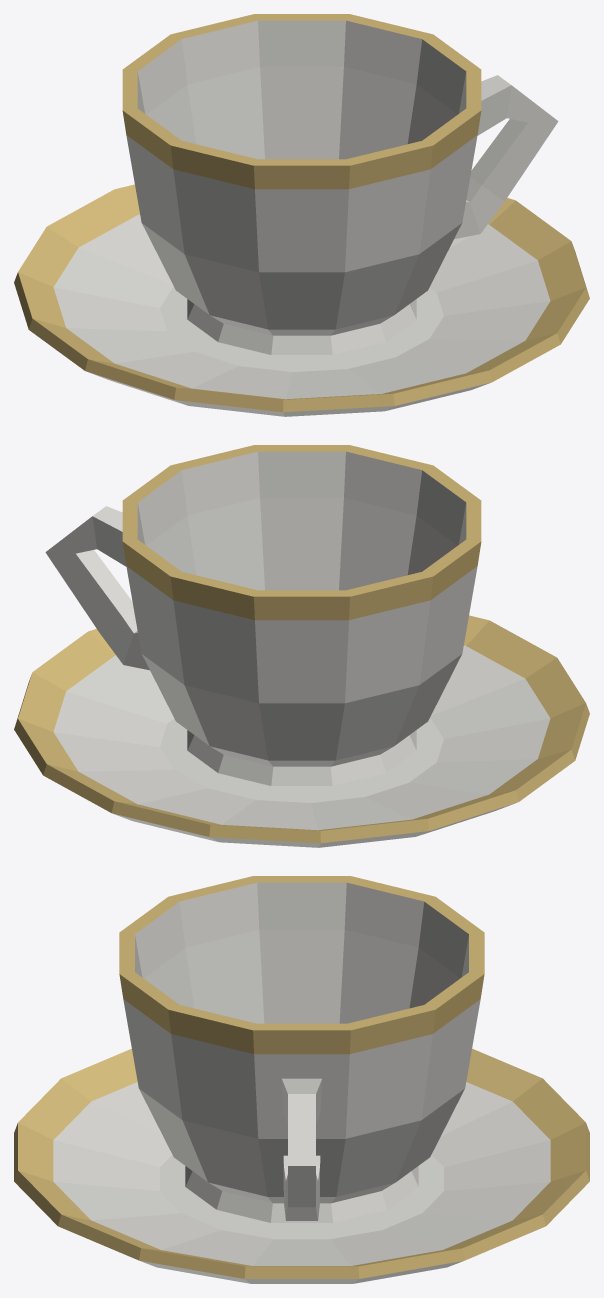
The model's file is taza.fbx.
3 views of the same model, one above another, from view 1: azimuth 30°, elevation 25°; view 2: azimuth 150°, elevation 25°; view 3: azimuth 270°, elevation 25° (orthographic).
Parts seen in each view (by area): view 1: taza, taza_plato; view 2: taza, taza_plato; view 3: taza, taza_plato.
Boxes of the visible parts, box(x1,y1,x2,y2) form: taza: box(122, 14, 558, 354); taza_plato: box(14, 184, 589, 416); taza: box(45, 445, 481, 785); taza_plato: box(14, 615, 589, 847); taza: box(119, 876, 484, 1222); taza_plato: box(14, 1048, 589, 1283).
Bounding box in the file's own units: 14.45 × 7.1 × 14.32.
